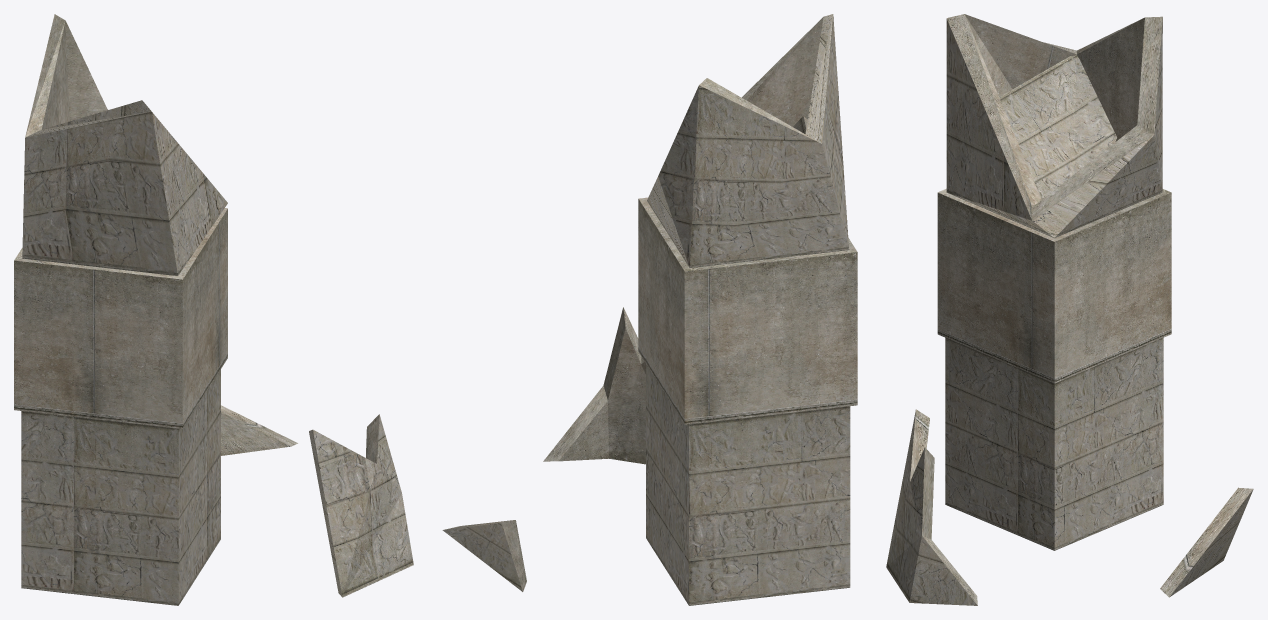
Rendered from poi_all_obelisk_s01_l3.fbx.
3 renders of one model, left to right at view 1: azimuth 30°, elevation 25°; view 2: azimuth 150°, elevation 25°; view 3: azimuth 270°, elevation 25°, orthographic. The views are drawn at different scales.
Visible parts, largest first — view 1: mesh_node; view 2: mesh_node; view 3: mesh_node.
Boxes of the visible parts, x1,y1,x2,y2 form: mesh_node: (14,14,413,605); mesh_node: (442,14,857,605); mesh_node: (886,14,1253,605).
Bounding box in the file's own units: 24.26 × 34.27 × 23.45.
